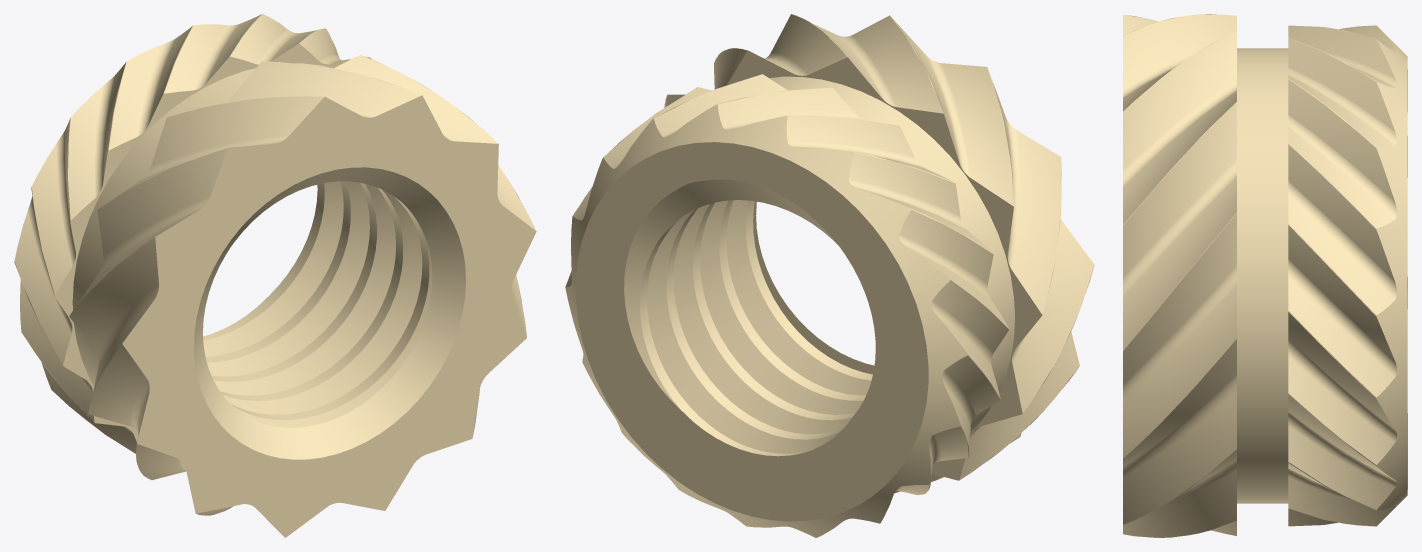
Rendered from ruthex_RX_M3_5_7_1__K_rper1_1.gltf.
3 views of the same model, side by side, from view 1: azimuth 30°, elevation 25°; view 2: azimuth 150°, elevation 25°; view 3: azimuth 270°, elevation 25° (orthographic). The views are drawn at different scales.
Visible parts, largest first — view 1: mesh3767, mesh3770, mesh3768, mesh3769, mesh3739, mesh3713, mesh3742, mesh3735, mesh3776, mesh3764, mesh3802, mesh3806 (+23 smaller); view 2: mesh3774, mesh3772, mesh3775, mesh3769, mesh3713, mesh3714, mesh3765, mesh3749, mesh3744, mesh3740, mesh3754, mesh3792 (+21 smaller); view 3: mesh3713, mesh3775, mesh3758, mesh3730, mesh3737, mesh3728, mesh3756, mesh3759, mesh3740, mesh3722, mesh3782, mesh3838 (+32 smaller).
Part boxes in pixels (x1,y1,x2,y2): mesh3767: (122,95,536,537); mesh3770: (203,181,432,427); mesh3768: (194,167,465,459); mesh3769: (203,181,429,419); mesh3739: (151,96,324,166); mesh3713: (72,63,332,431); mesh3742: (97,148,227,255); mesh3735: (228,61,421,115); mesh3776: (54,43,350,441); mesh3764: (69,237,158,349); mesh3802: (31,143,72,294); mesh3806: (14,211,71,364); mesh3774: (575,142,928,521); mesh3772: (624,179,871,453); mesh3775: (565,104,967,537); mesh3769: (640,200,872,456); mesh3713: (769,76,1014,432); mesh3714: (667,50,1042,480); mesh3765: (1012,131,1061,314); mesh3749: (1012,222,1094,413); mesh3744: (941,63,1013,206); mesh3740: (852,15,942,113); mesh3754: (959,332,1079,480); mesh3792: (786,116,914,156); mesh3713: (1237,48,1288,503); mesh3775: (1376,29,1407,519); mesh3758: (1123,285,1236,458); mesh3730: (1123,102,1236,276); mesh3737: (1123,31,1236,169); mesh3728: (1123,392,1236,524); mesh3756: (1123,177,1236,349); mesh3759: (1123,213,1236,384); mesh3740: (1123,14,1236,86); mesh3722: (1123,471,1236,537); mesh3782: (1288,79,1394,201); mesh3838: (1288,356,1394,464).
Size of the model in its own units: 0.0046 by 0.0046 by 0.0025.
